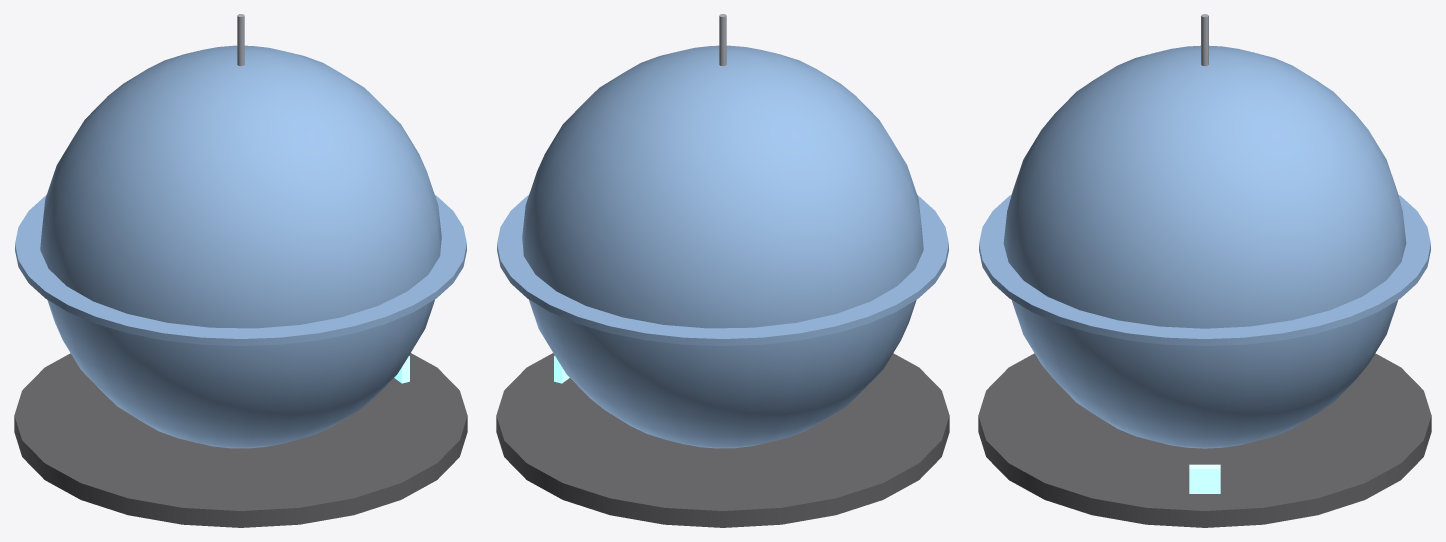
The model's file is orb_3x3_2046.glb.
3 views of the same model, side by side, from view 1: azimuth 30°, elevation 25°; view 2: azimuth 150°, elevation 25°; view 3: azimuth 270°, elevation 25° (orthographic).
Visible parts, largest first — view 1: Orb, Plinth, Ring; view 2: Orb, Plinth, Ring; view 3: Orb, Plinth, Ring, Gate.
Boxes of the visible parts, bbox=[...] form: Orb: bbox=[40, 45, 441, 448]; Plinth: bbox=[14, 353, 467, 527]; Ring: bbox=[15, 195, 466, 345]; Orb: bbox=[522, 45, 923, 448]; Plinth: bbox=[496, 353, 949, 527]; Ring: bbox=[497, 195, 948, 345]; Orb: bbox=[1003, 45, 1406, 448]; Plinth: bbox=[978, 353, 1431, 527]; Ring: bbox=[979, 194, 1430, 345]; Gate: bbox=[1189, 464, 1220, 493].
Size of the model in its own units: 2.92 by 2.96 by 2.92.
